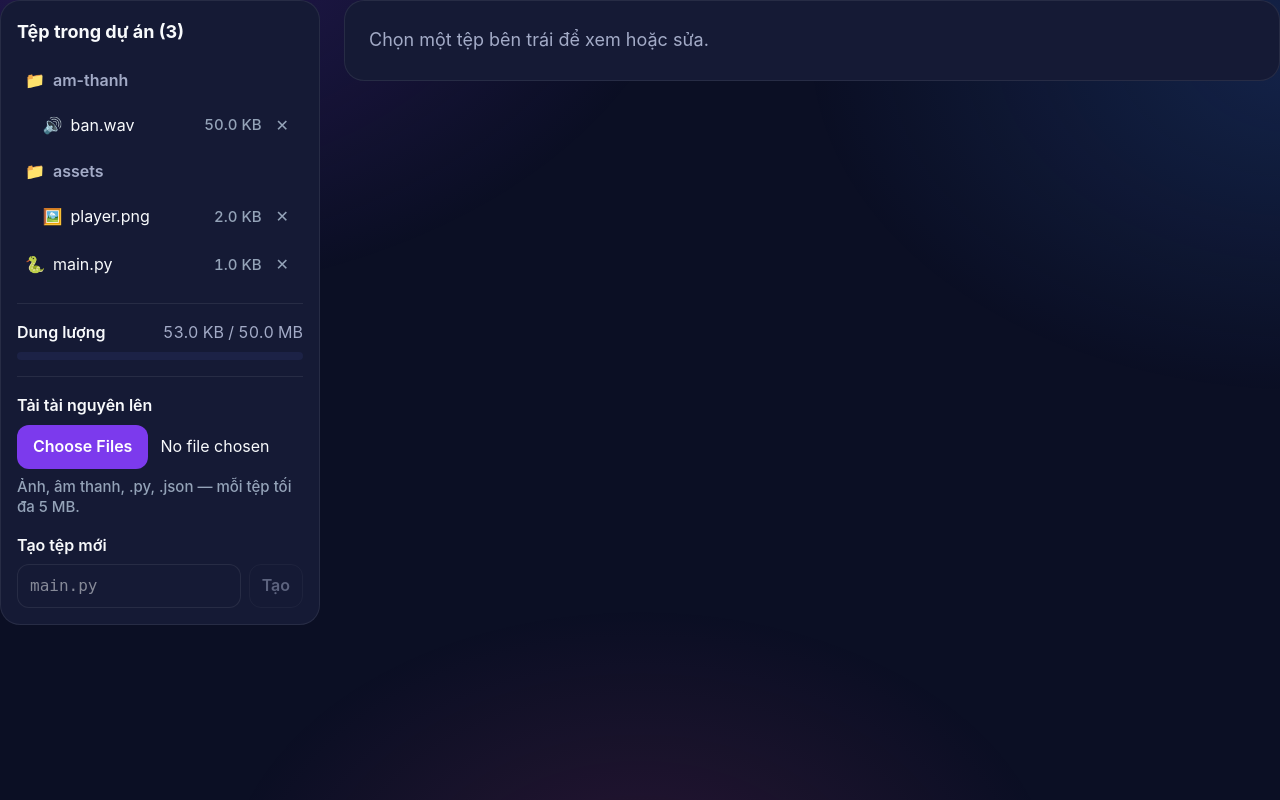
Test: Khu làm việc dự án › mở tệp .py trong khung soạn thảo
This screenshot has width=1280, height=800.
Click the text "main.py" at (83, 265), box x1=53 y1=252 x2=112 y2=278
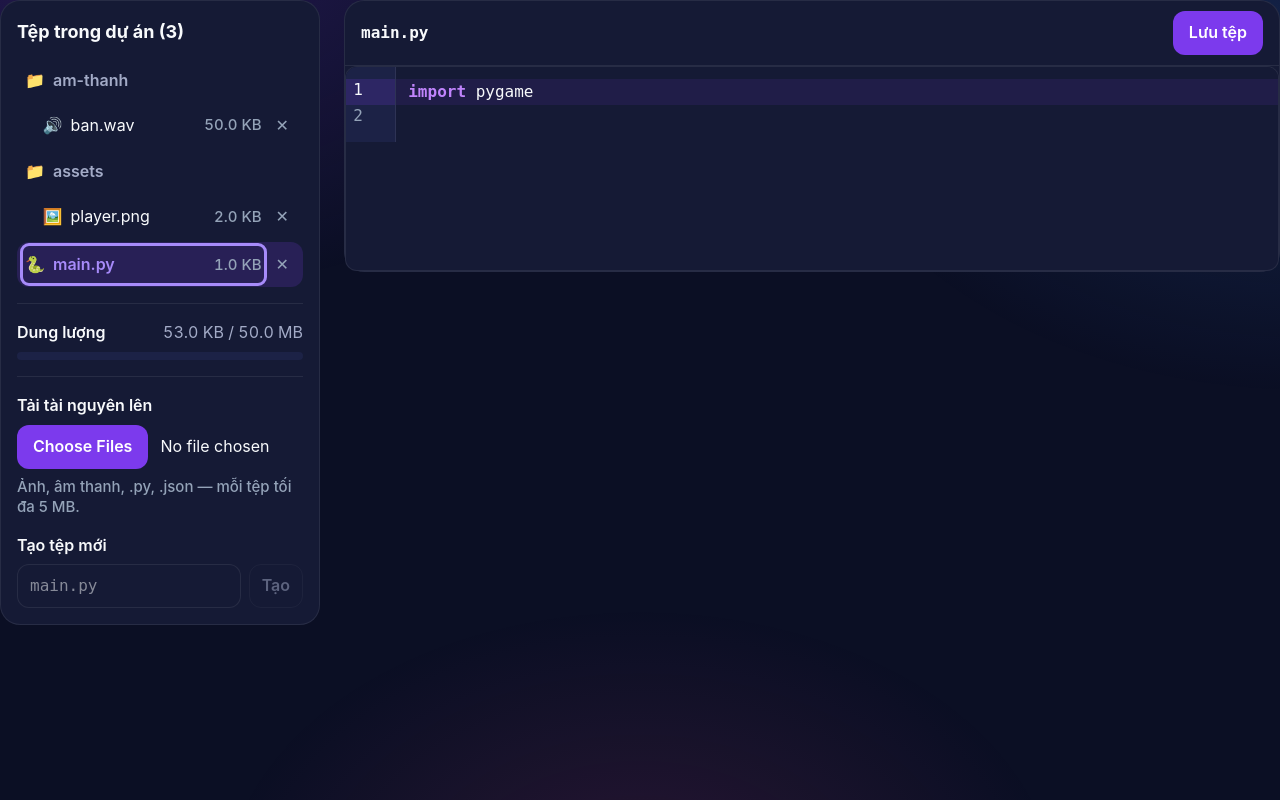
Check: the field named "main.py" is shown, box x1=396 y1=79 x2=1278 y2=105
